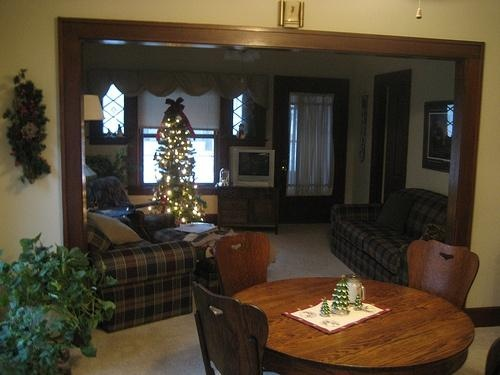chair: (193, 280, 268, 375), (408, 241, 481, 314), (216, 237, 273, 293)
diningtable: (227, 274, 471, 375)
sofa: (82, 219, 195, 333), (330, 186, 450, 291), (85, 178, 173, 234)
tvmonitor: (230, 148, 279, 190)
